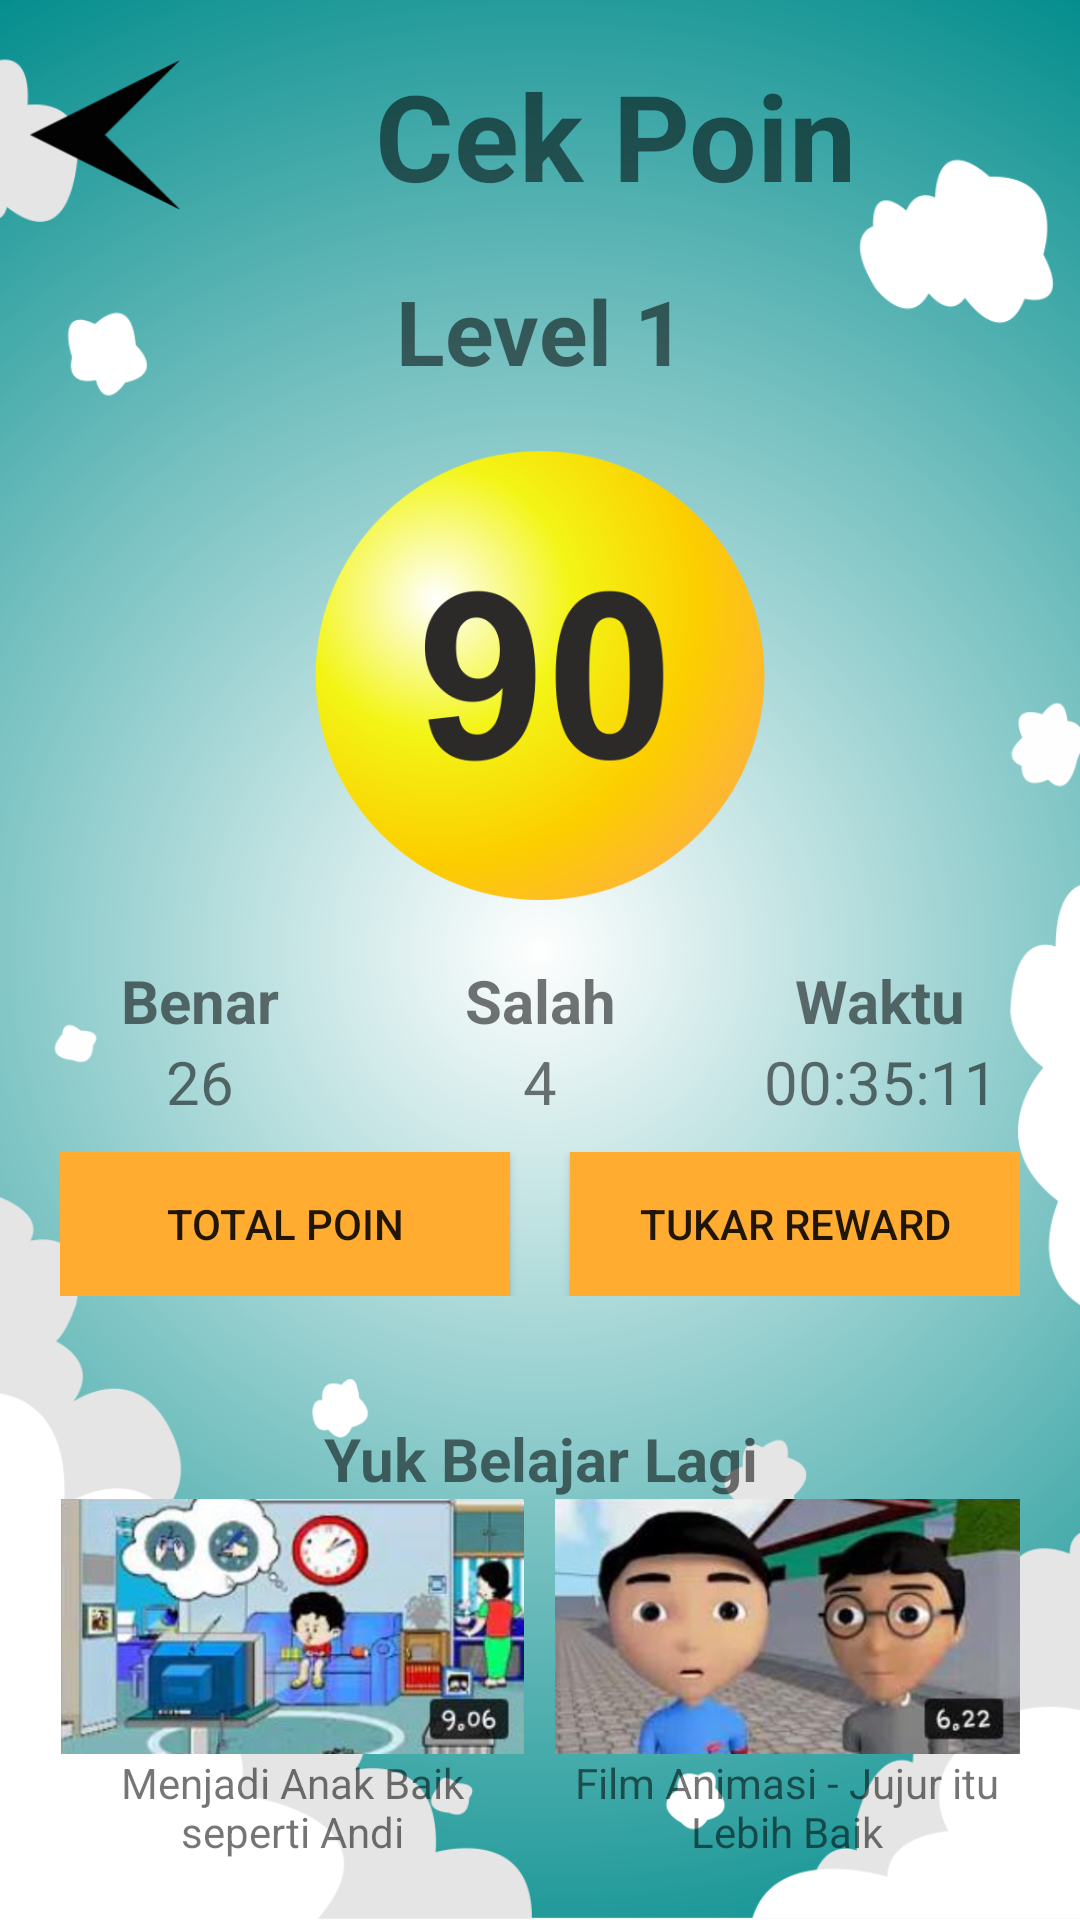

Named icons in this screenshot (1080px x 1920px) and their centers, (x=x, y=y):
back: (x=105, y=135)
